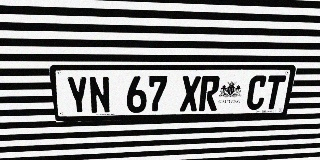6: (126, 76, 147, 113)
7: (147, 76, 167, 112)
C: (245, 75, 268, 110)
N: (88, 76, 111, 114)
R: (199, 76, 221, 111)
T: (263, 75, 286, 109)
X: (180, 76, 201, 112)
Y: (65, 76, 90, 114)
